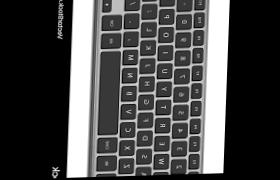keyboard: (84, 0, 212, 177)
